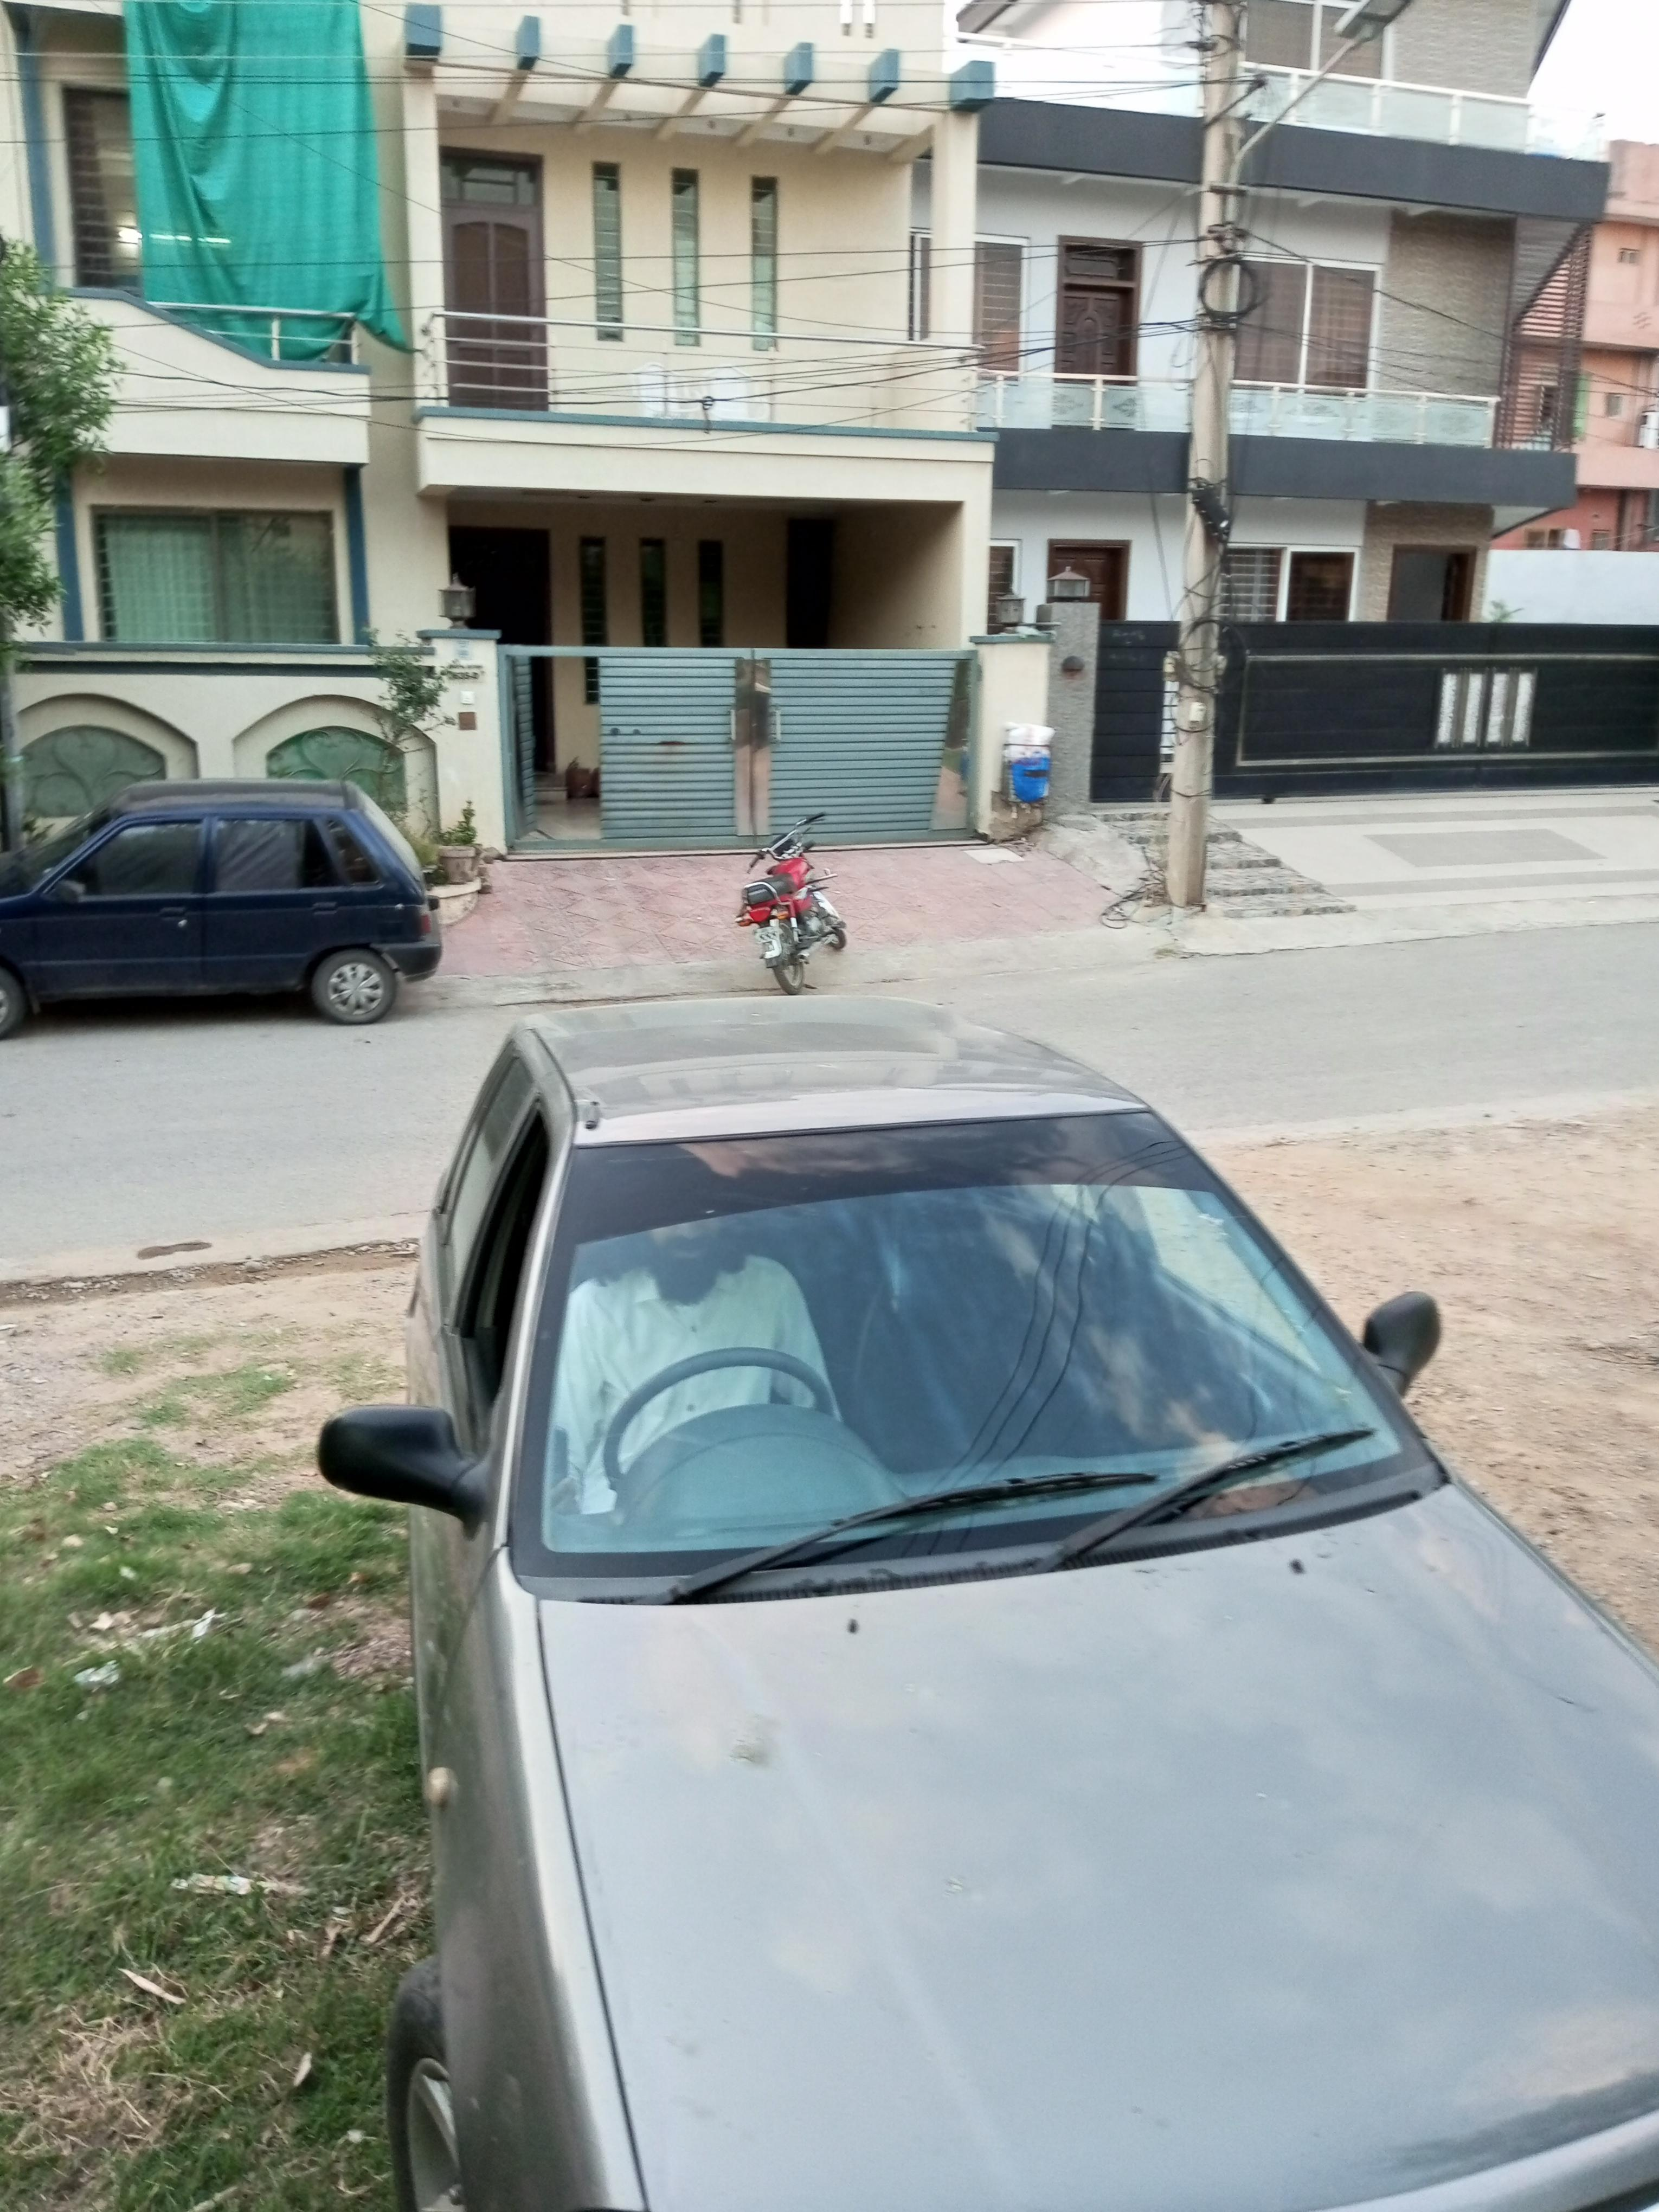windshield: (495, 1111, 1453, 1609)
